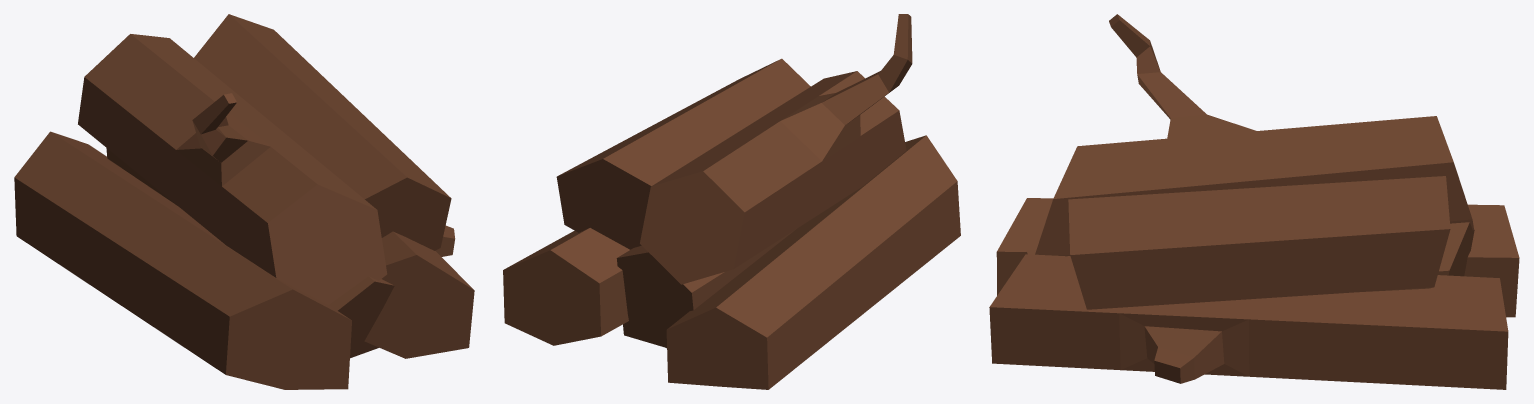
Rendered from wood.glb.
The picture shows the model from 3 angles, left to right: view 1: azimuth 30°, elevation 25°; view 2: azimuth 150°, elevation 25°; view 3: azimuth 270°, elevation 25°; orthographic projection. The views are drawn at different scales.
Visible parts, largest first — view 1: wood; view 2: wood; view 3: wood.
Boxes of the visible parts, x1,y1,x2,y2 form: wood: [14, 14, 474, 389]; wood: [503, 14, 960, 389]; wood: [989, 14, 1519, 389].
Bounding box in the file's own units: 1.39 × 1.22 × 2.16.
